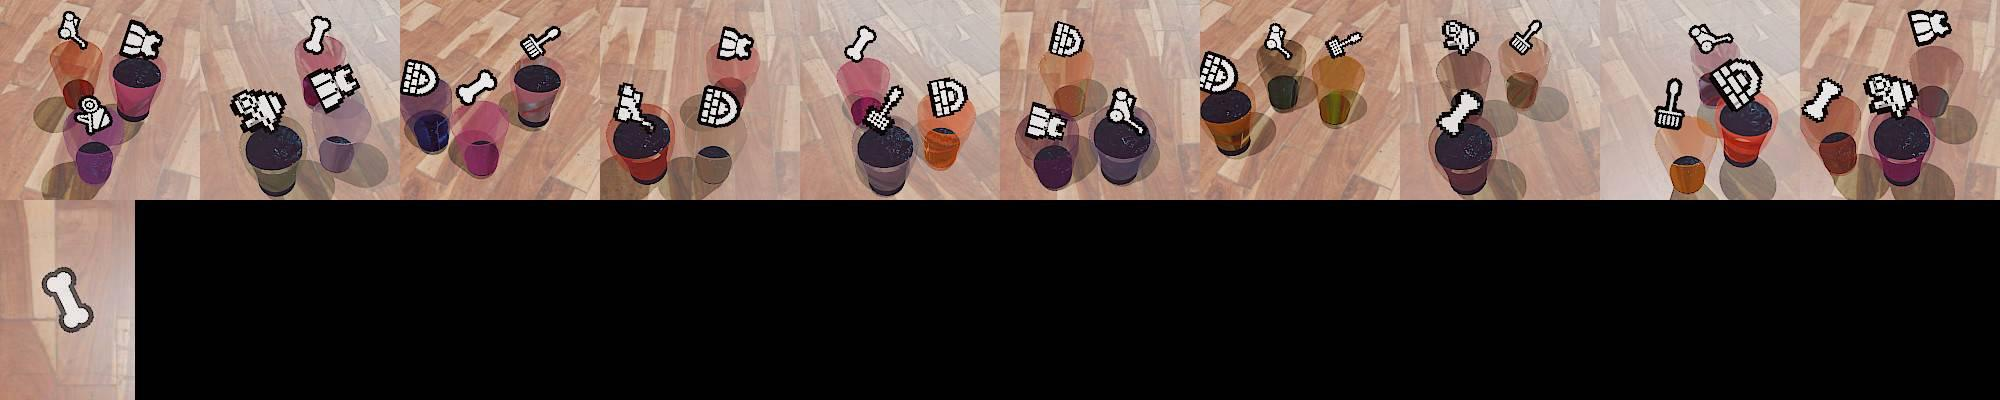icon: (40, 266, 94, 334), (302, 62, 361, 115), (1709, 57, 1764, 110), (231, 89, 288, 135), (860, 83, 906, 135), (1436, 88, 1485, 136), (1864, 73, 1916, 117), (1103, 85, 1147, 138), (696, 83, 742, 127), (119, 18, 163, 61), (1801, 76, 1843, 122), (1653, 76, 1686, 131), (1907, 9, 1952, 48), (927, 76, 968, 118), (75, 93, 115, 135), (1199, 56, 1240, 96), (455, 69, 497, 107), (1026, 101, 1068, 139), (401, 59, 440, 98), (520, 23, 562, 60), (1440, 18, 1480, 56), (1047, 19, 1085, 59), (1689, 23, 1733, 55), (717, 25, 756, 61), (614, 80, 645, 124), (1509, 18, 1545, 56), (843, 24, 878, 64), (57, 10, 88, 52), (301, 15, 333, 55), (1264, 22, 1295, 61), (1325, 28, 1364, 59)
